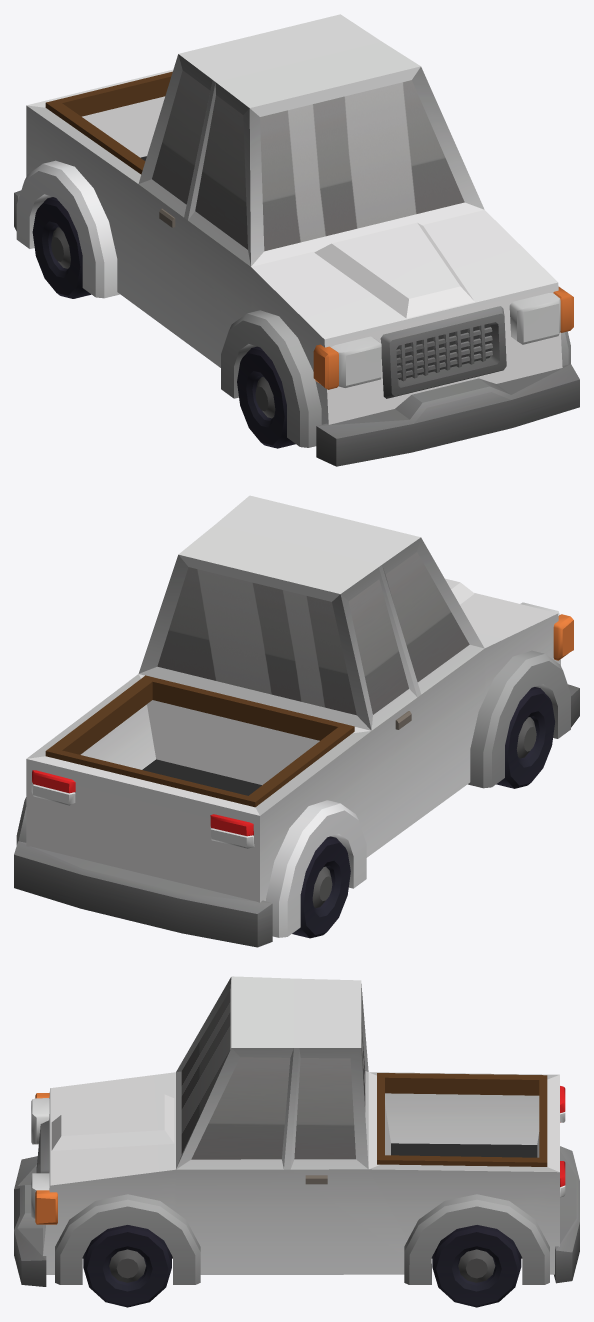
Rendered from PickUp_18.fbx.
The picture shows the model from 3 angles, top to bottom: view 1: azimuth 30°, elevation 25°; view 2: azimuth 150°, elevation 25°; view 3: azimuth 270°, elevation 25°; orthographic projection. The views are drawn at different scales.
Parts seen in each view (by area): view 1: PickUp_18, BWhel_BR, BWhel_FR; view 2: PickUp_18, BWhel_BR, BWhel_FR; view 3: PickUp_18, BWhel_BL, BWhel_FL.
Part boxes in pixels (x1,y1,x2,y2): PickUp_18: (14, 14, 579, 466); BWhel_BR: (32, 197, 91, 298); BWhel_FR: (237, 346, 295, 448); PickUp_18: (14, 495, 579, 947); BWhel_BR: (292, 836, 350, 938); BWhel_FR: (496, 687, 554, 788); PickUp_18: (14, 976, 579, 1286); BWhel_BL: (432, 1225, 521, 1307); BWhel_FL: (83, 1225, 171, 1307).
Bounding box in the file's own units: 1.09 × 1.08 × 2.3.
